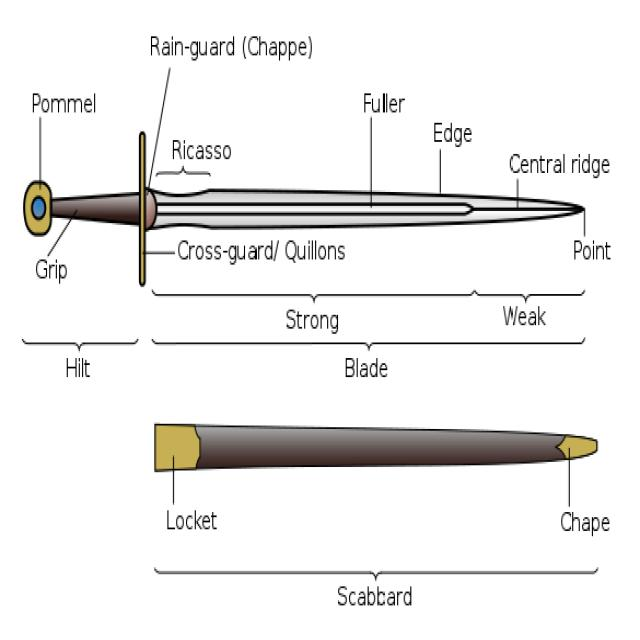Weapon: (22, 128, 586, 291)
